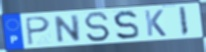I: (178, 6, 190, 38)
K: (143, 9, 168, 37)
N: (54, 14, 82, 45)
P: (24, 16, 52, 47)
S: (111, 10, 141, 41), (83, 11, 112, 43)
